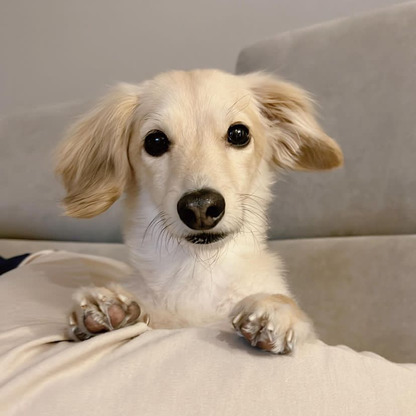dachshund: (38, 66, 350, 364)
